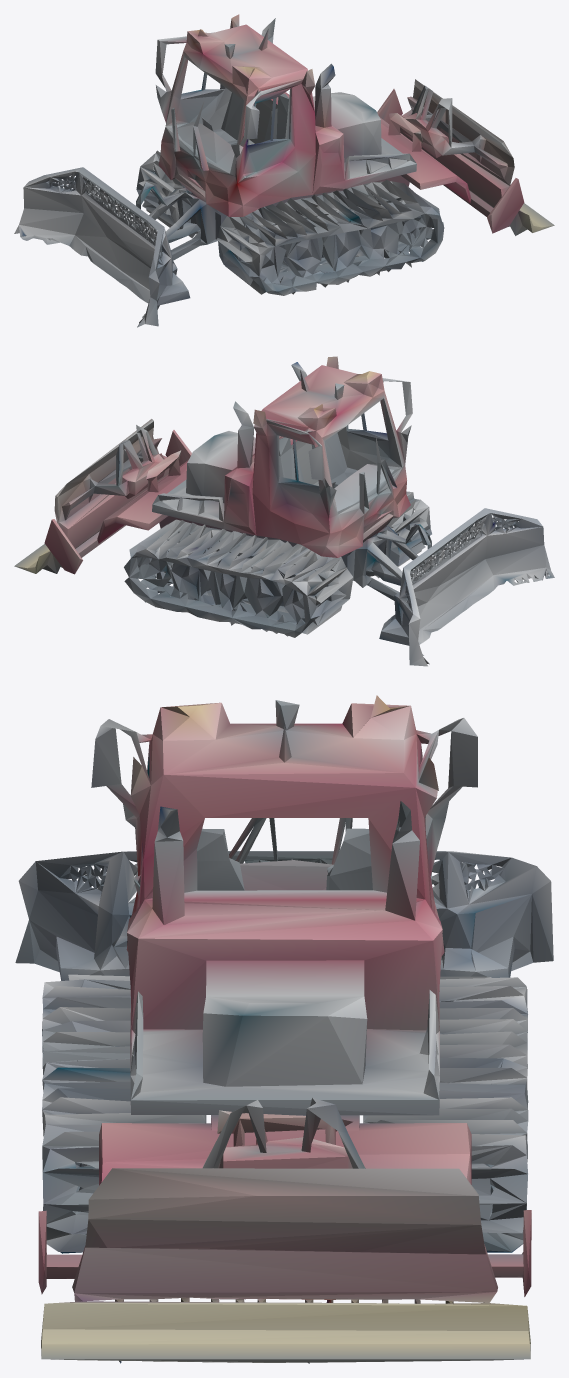
The model's file is gen-cat.glb.
The picture shows the model from 3 angles, top to bottom: view 1: azimuth 30°, elevation 25°; view 2: azimuth 150°, elevation 25°; view 3: azimuth 270°, elevation 25°; orthographic projection. The views are drawn at different scales.
Parts seen in each view (by area): view 1: model; view 2: model; view 3: model.
Boxes of the visible parts, x1,y1,x2,y2 form: model: [14, 14, 554, 327]; model: [14, 356, 554, 666]; model: [15, 695, 553, 1363].
Size of the model in its own units: 5.2 by 2.6 by 2.9.
